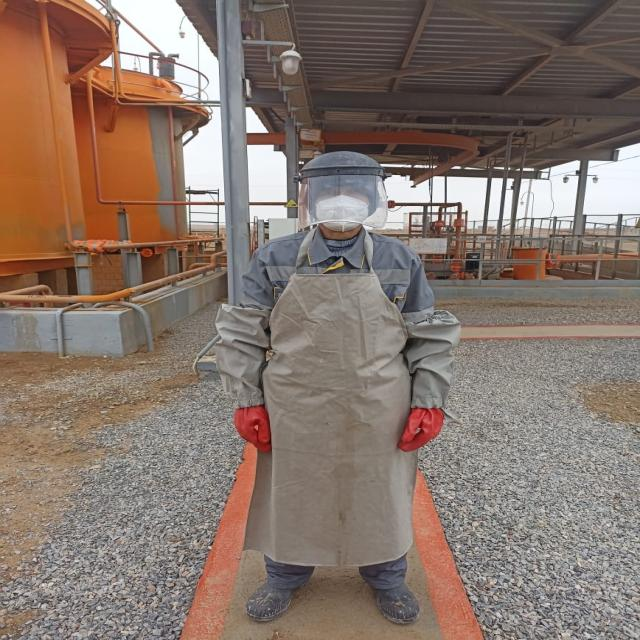Gloves: (397, 407, 444, 452), (233, 404, 271, 452)
Helmet: (294, 150, 389, 232)
Mask: (313, 194, 370, 232)
Protective apron: (241, 228, 420, 568)
Safety Shoes: (244, 578, 298, 621), (374, 582, 420, 624)
Sleeve: (402, 309, 457, 408), (212, 310, 266, 402)
